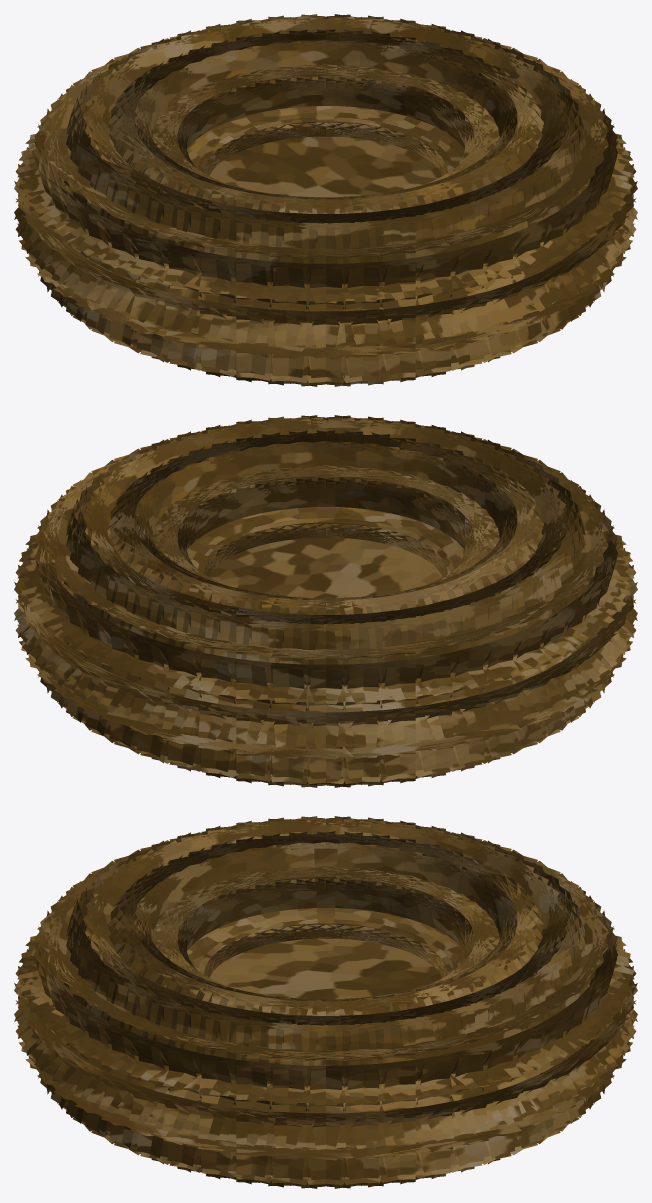
The model's file is nest.fbx.
3 views of the same model, one above another, from view 1: azimuth 30°, elevation 25°; view 2: azimuth 150°, elevation 25°; view 3: azimuth 270°, elevation 25° (orthographic).
Visible parts, largest first — view 1: Torus.001, Cylinder; view 2: Torus.001, Cylinder; view 3: Torus.001, Cylinder.
Part boxes in pixels (left/top/right/bottom): Torus.001: left=14, top=14, right=637, bottom=386; Cylinder: left=209, top=127, right=442, bottom=197; Torus.001: left=14, top=415, right=637, bottom=787; Cylinder: left=209, top=528, right=442, bottom=598; Torus.001: left=14, top=816, right=637, bottom=1188; Cylinder: left=209, top=929, right=442, bottom=999.
Size of the model in its own units: 291 by 84.29 by 291.
